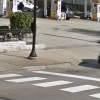crosswalk: (0, 73, 100, 97)
